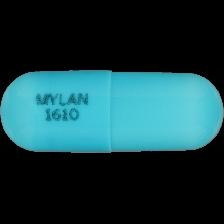51079-118: (0, 0, 224, 224)
